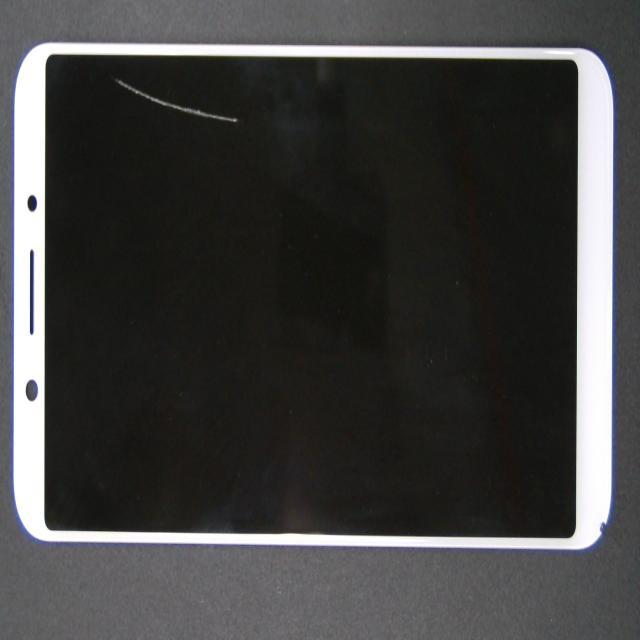scratch: (113, 78, 240, 140)
